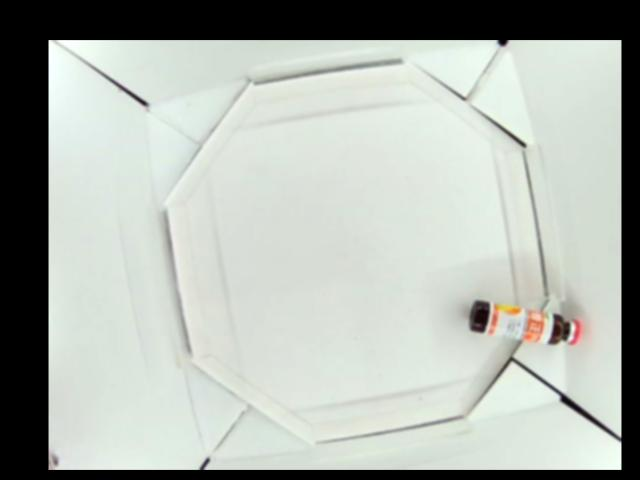Medicine: (470, 297, 582, 348)
